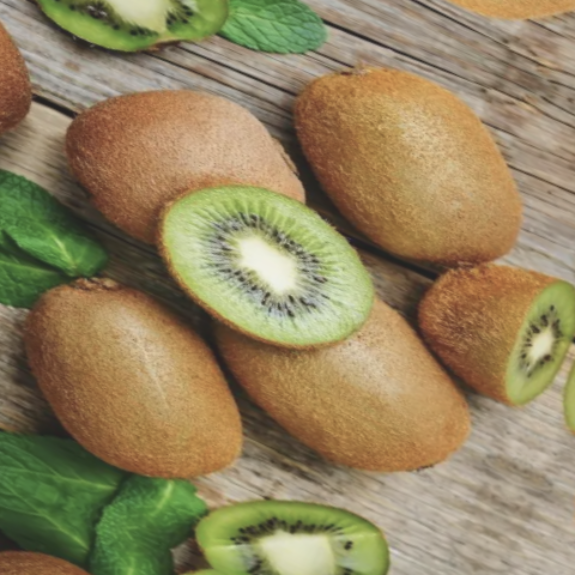kiwi: (172, 222, 529, 519), (31, 28, 372, 319), (236, 20, 565, 318), (0, 243, 297, 533)
